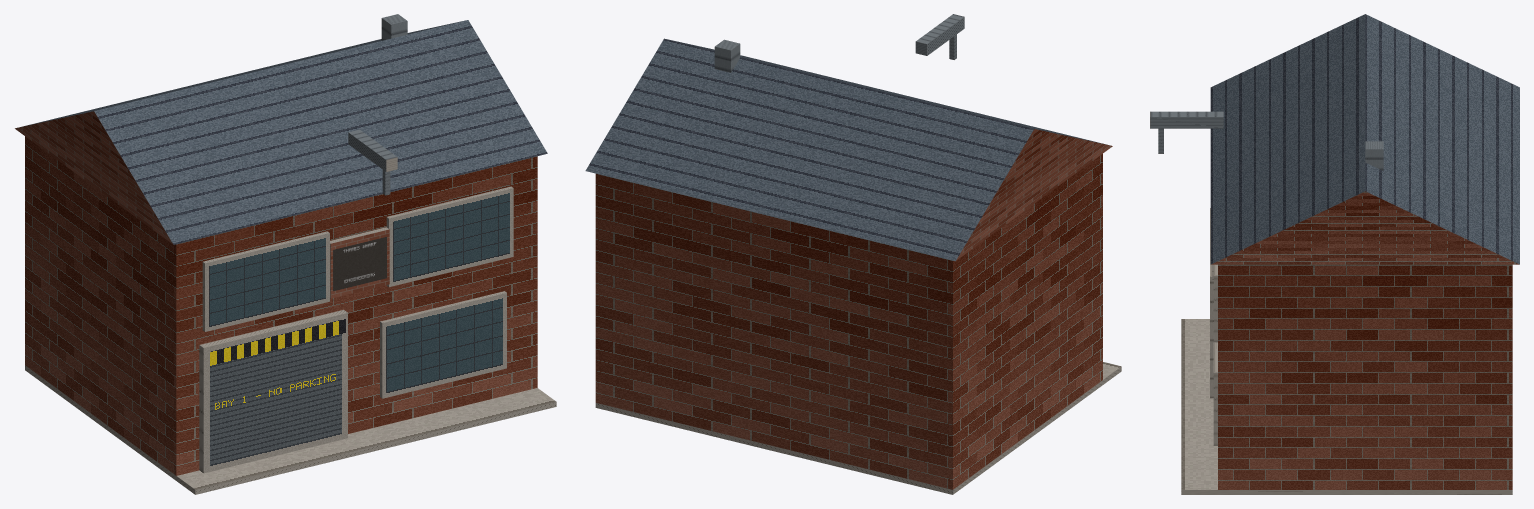
The model's file is building_industrial_warehouse.glb.
3 renders of one model, left to right at view 1: azimuth 30°, elevation 25°; view 2: azimuth 150°, elevation 25°; view 3: azimuth 270°, elevation 25°, orthographic. The views are drawn at different scales.
Parts seen in each view (by area): view 1: Building_Industrial_Warehouse; view 2: Building_Industrial_Warehouse; view 3: Building_Industrial_Warehouse.
Boxes of the visible parts, x1,y1,x2,y2 form: Building_Industrial_Warehouse: (15, 14, 556, 494); Building_Industrial_Warehouse: (585, 14, 1121, 494); Building_Industrial_Warehouse: (1150, 14, 1519, 494).
Size of the model in its own units: 11.4 by 9.6 by 10.05.
Materials: 1 (1 with a texture image).
